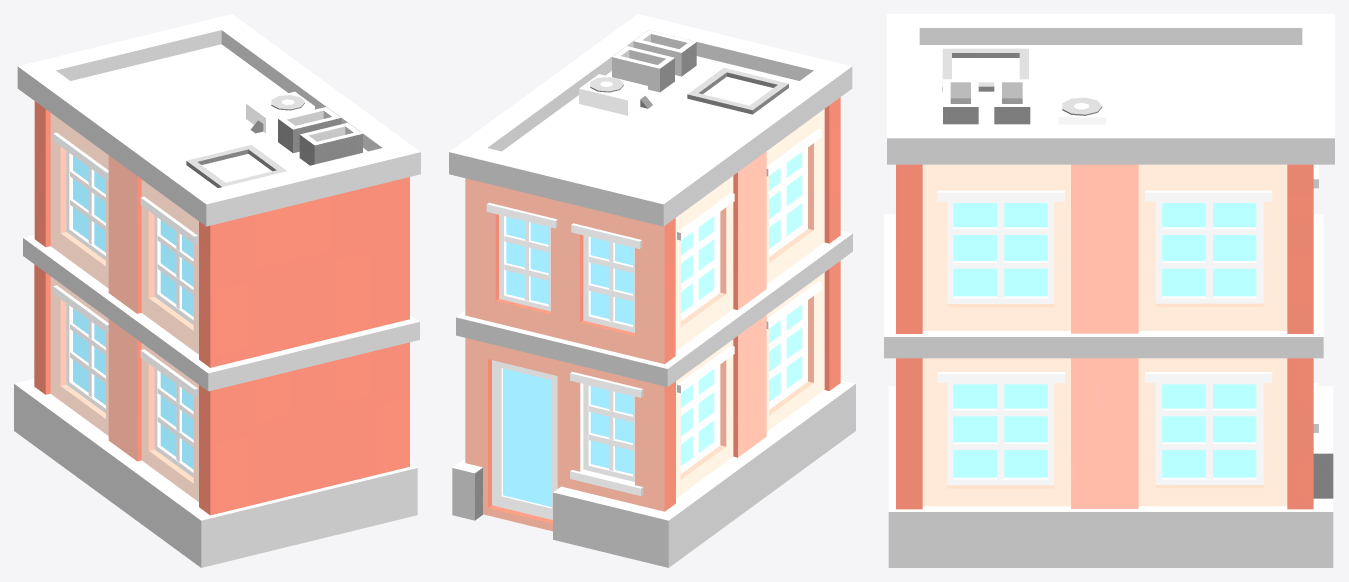
File: dwelling.002.glb
3 renders of one model, left to right at view 1: azimuth 30°, elevation 25°; view 2: azimuth 150°, elevation 25°; view 3: azimuth 270°, elevation 25°, orthographic. The views are drawn at different scales.
Parts seen in each view (by area): view 1: dwelling.002(Clone); view 2: dwelling.002(Clone); view 3: dwelling.002(Clone).
Part boxes in pixels (x1=…): dwelling.002(Clone): x1=14, y1=14, x2=420, y2=567; dwelling.002(Clone): x1=449, y1=14, x2=855, y2=567; dwelling.002(Clone): x1=884, y1=14, x2=1334, y2=567.
Size of the model in its own units: 3.61 by 5.87 by 5.42.
1 material, 1 textured.
